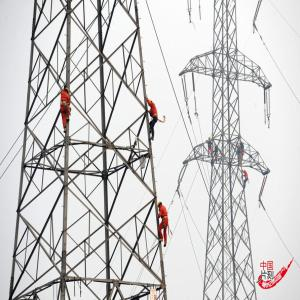yellow: (158, 202, 164, 210), (149, 100, 154, 108), (65, 88, 70, 95)
